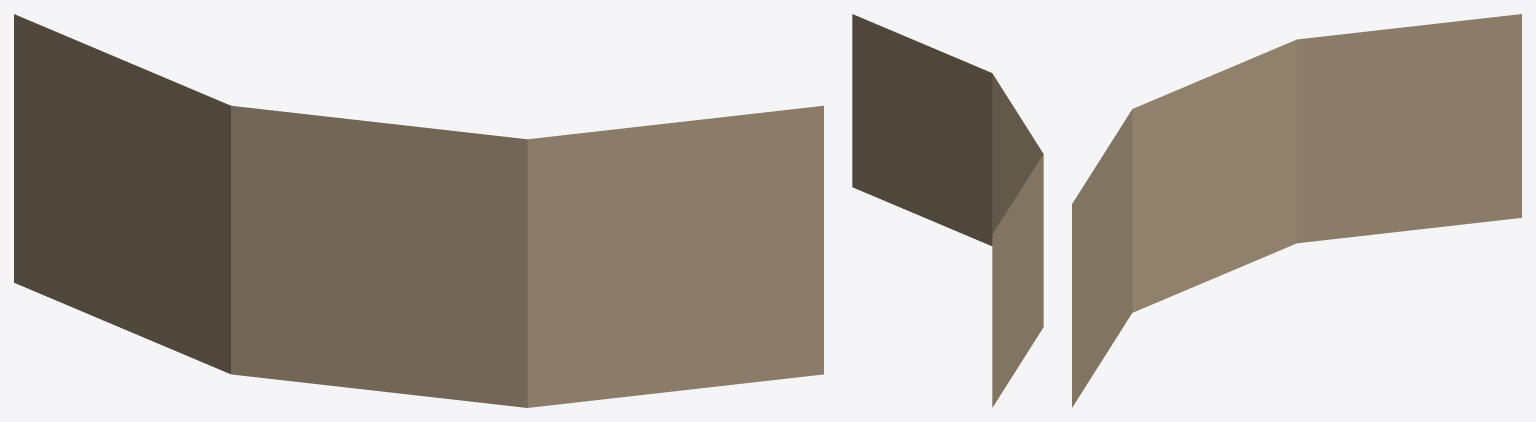
Rendered from Escarpment_Terrain_Corner_Inner_2x2_Mid.fbx.
The picture shows the model from 3 angles, left to right: view 1: azimuth 30°, elevation 25°; view 2: azimuth 150°, elevation 25°; view 3: azimuth 270°, elevation 25°; orthographic projection. The views are drawn at different scales.
Visible parts, largest first — view 1: object1; view 2: object1; view 3: object1.
Part boxes in pixels (left/top/right/bottom): object1: left=14, top=14, right=823, bottom=407; object1: left=852, top=14, right=1043, bottom=407; object1: left=1072, top=14, right=1521, bottom=407.
Bounding box in the file's own units: 2 × 1 × 2.
